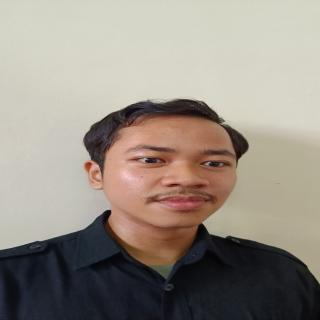Takut: (94, 113, 257, 234)
